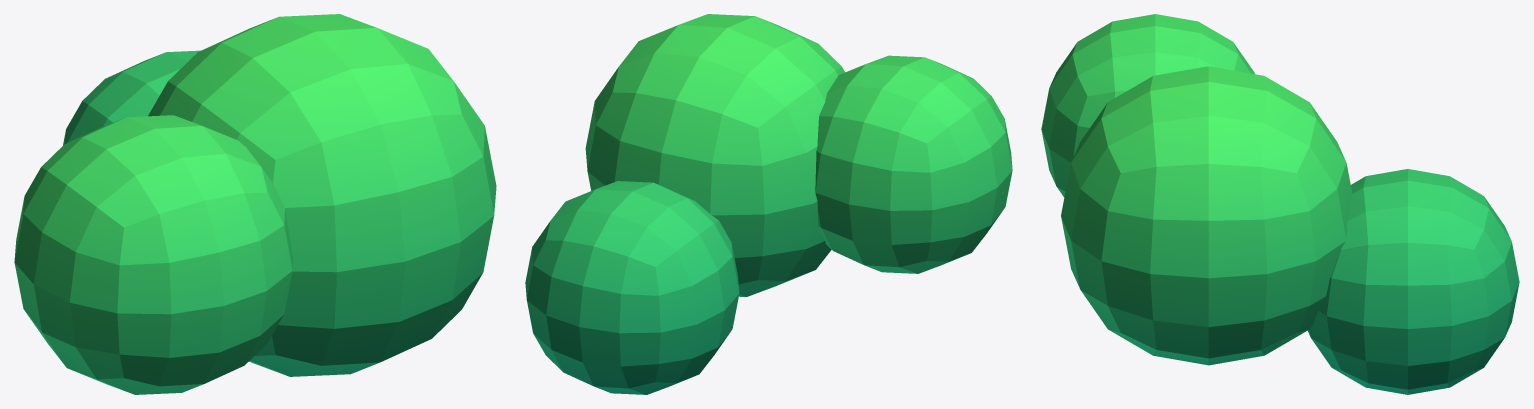
The model's file is Buisson3.fbx.
The picture shows the model from 3 angles, left to right: view 1: azimuth 30°, elevation 25°; view 2: azimuth 150°, elevation 25°; view 3: azimuth 270°, elevation 25°; orthographic projection. The views are drawn at different scales.
Visible parts, largest first — view 1: Cube.005; view 2: Cube.005; view 3: Cube.005.
Boxes of the visible parts, x1,y1,x2,y2 form: Cube.005: (14,14,496,394); Cube.005: (525,14,1012,394); Cube.005: (1041,14,1519,394).
Bounding box in the file's own units: 517 × 387 × 556.
